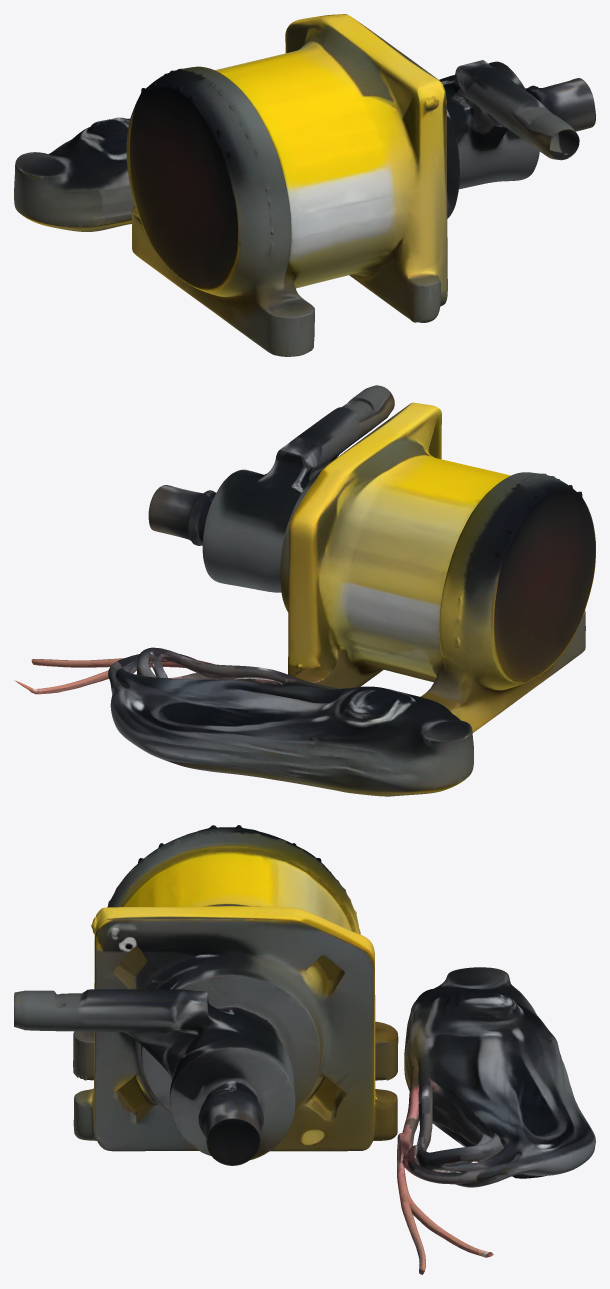
Rendered from 0.5wop.glb.
The picture shows the model from 3 angles, top to bottom: view 1: azimuth 30°, elevation 25°; view 2: azimuth 150°, elevation 25°; view 3: azimuth 270°, elevation 25°; orthographic projection. The views are drawn at different scales.
Visible parts, largest first — view 1: model; view 2: model; view 3: model.
Boxes of the visible parts, x1,y1,x2,y2 form: model: (14,14,595,356); model: (14,385,595,796); model: (14,825,595,1274).
Bounding box in the file's own units: 1.89 × 0.8442 × 1.9.
Materials: 1 (1 with a texture image).
